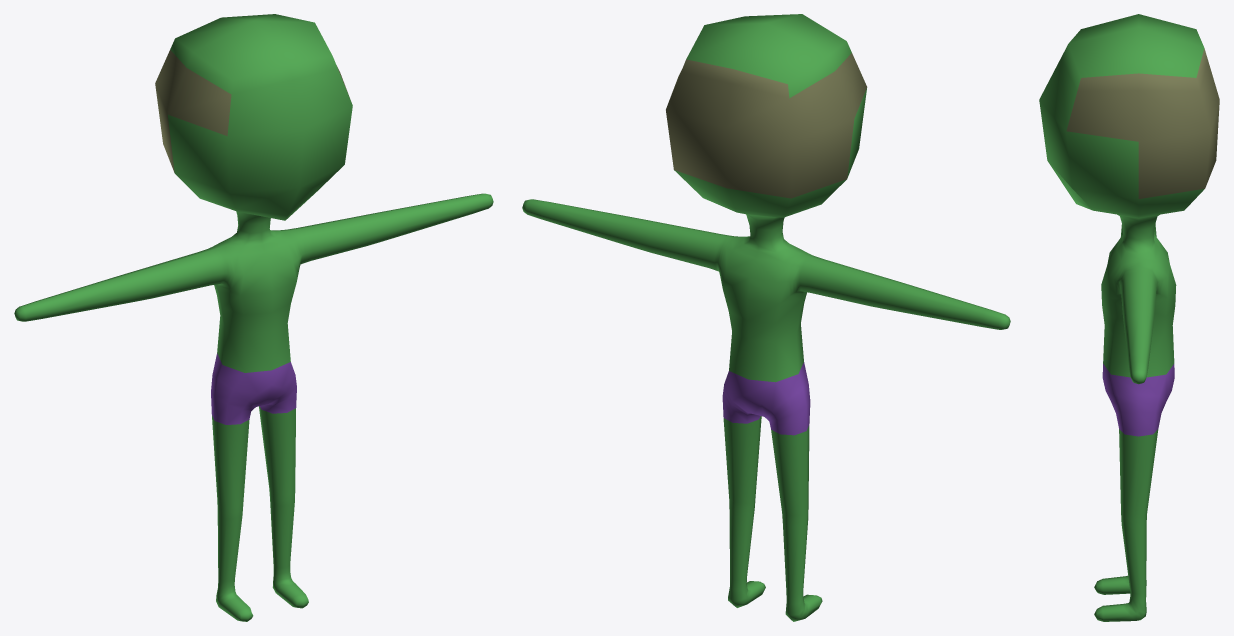
Rendered from Zombie_v2(mat).fbx.
3 views of the same model, side by side, from view 1: azimuth 30°, elevation 25°; view 2: azimuth 150°, elevation 25°; view 3: azimuth 270°, elevation 25° (orthographic).
Parts seen in each view (by area): view 1: Character_v1.002; view 2: Character_v1.002; view 3: Character_v1.002.
Boxes of the visible parts, box(x1,y1,x2,y2) form: Character_v1.002: box(14, 14, 493, 621); Character_v1.002: box(522, 14, 1010, 621); Character_v1.002: box(1039, 14, 1219, 621).
Size of the model in its own units: 119 by 139 by 39.13.
